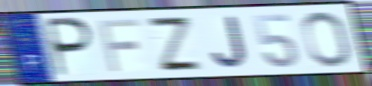5: (250, 12, 300, 69)
F: (95, 16, 142, 74)
J: (209, 14, 250, 70)
O: (300, 10, 355, 69)
P: (46, 16, 97, 79)
Z: (144, 16, 206, 72)
